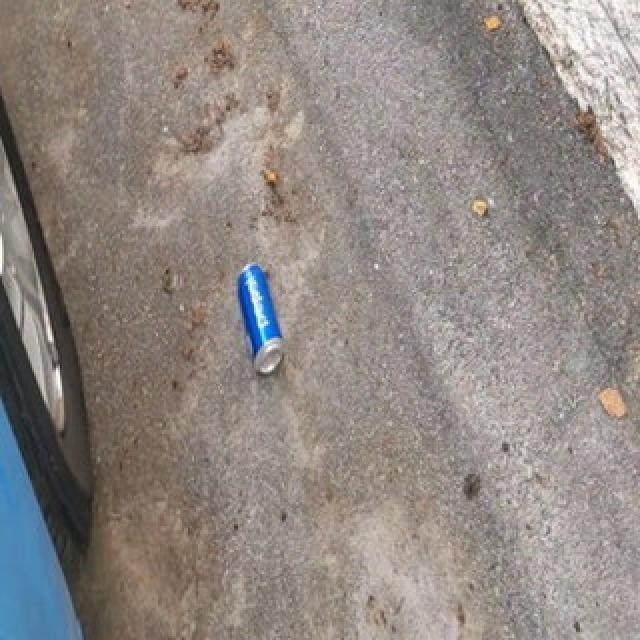can: (238, 261, 288, 378)
